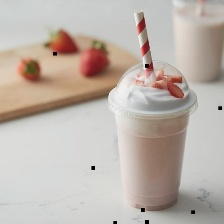drinking_straw: (128, 7, 161, 86)
glass: (101, 56, 202, 214)
